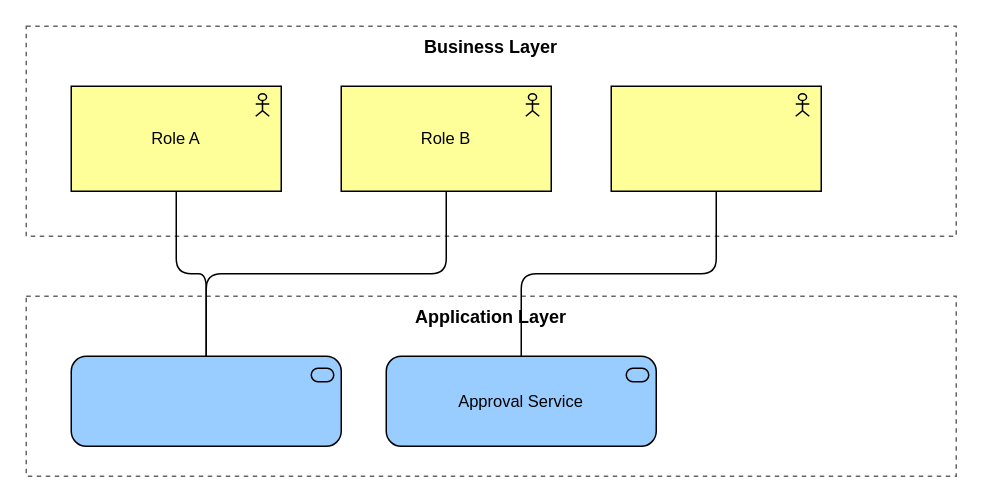
Image size: 983x503. Some labels were removed from this diagram. Here are the shapes that lost their labels. From the top down, the centre of each, then its label:
[715,138]: Role C
[205,400]: Core Service
